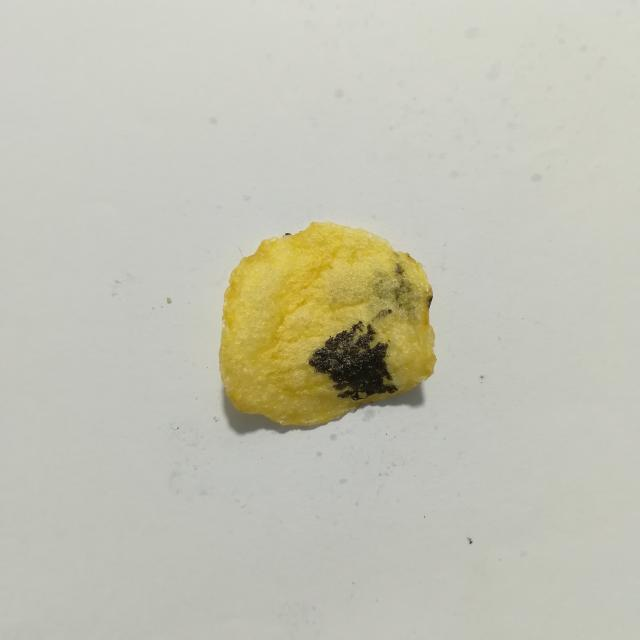chip: (219, 222, 435, 425)
damaged: (309, 321, 397, 401)
semi-damaged: (370, 263, 423, 320), (426, 295, 433, 309)
